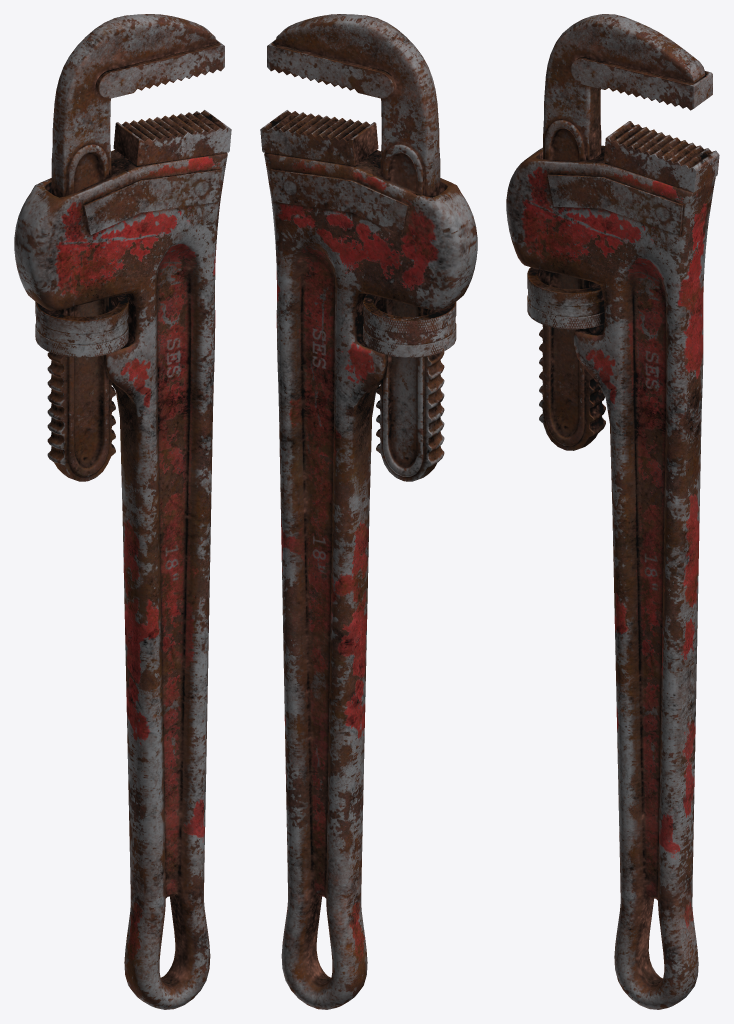
File: pipe_wrench.fbx
The picture shows the model from 3 angles, left to right: view 1: azimuth 30°, elevation 25°; view 2: azimuth 150°, elevation 25°; view 3: azimuth 330°, elevation 25°; orthographic projection.
Visible parts, largest first — view 1: pipe_wrench; view 2: pipe_wrench; view 3: pipe_wrench.
Part boxes in pixels (x1,y1,x2,y2): pipe_wrench: (14, 14, 231, 1009); pipe_wrench: (260, 14, 477, 1009); pipe_wrench: (506, 14, 719, 1009).
Size of the model in its own units: 8.4 by 40.47 by 3.43.
